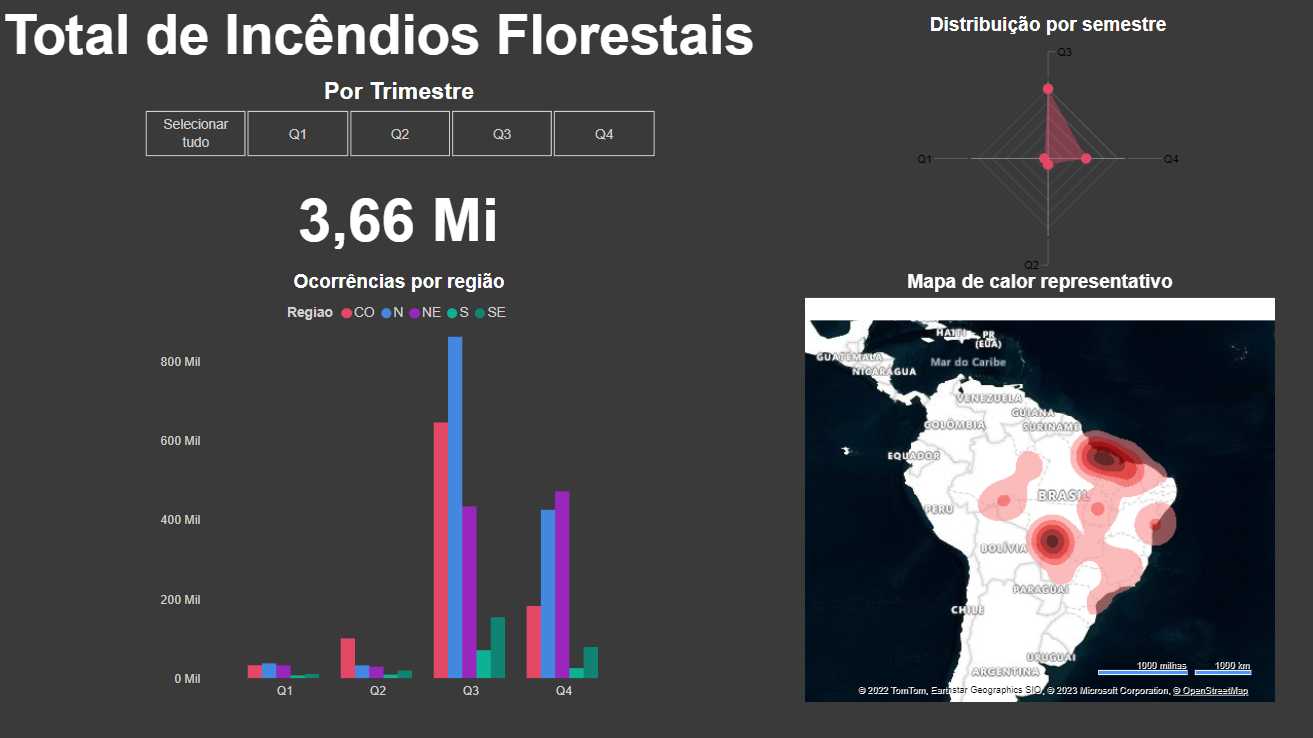

The page's visual inventory and layout, read from the dashboard file:
{"tool":"powerbi","page":{"name":"totalPorTrimestre","canvas":[1280,720],"ordinal":0},"visuals":[{"type":"card","title":"Total de incêndios","fields":{"Values":["Sum(dados_corretos.Numero)"]},"box":[165.3,172.2,448.4,76.8],"z":0},{"type":"RadarChart1446119667547","title":"Distribuição por semestre","fields":{"Y":["Sum(dados_corretos.Numero)"],"Category":["dados_corretos.Trimestre"]},"box":[787.8,15.6,466.9,259.7],"z":1000},{"type":"textbox","box":[0,0,780.1,86.6],"z":2000},{"type":"clusteredColumnChart","title":"Ocorrências por região","fields":{"Y":["Sum(dados_corretos.Numero)"],"Series":["dados_corretos.Regiao"],"Category":["dados_corretos.Trimestre"]},"box":[152.7,265.5,474.7,424.1],"z":3000},{"type":"slicer","title":"Por Trimestre","fields":{"Values":["dados_corretos.Trimestre"]},"box":[117.7,76.8,544.7,81.7],"z":4000},{"type":"heatmapF244EA9EE1F34E828A80CF19B41976F8","title":"Mapa de calor representativo","fields":{"value":["Sum(dados_corretos.Numero)"],"location":["dados_corretos.Estado"]},"box":[780.1,265.5,466.9,424.1],"z":5000}]}

Visuals, with their boxes in screenshot pixels (x1, y1, x2, y2), scaled from the page's 1280x720 canvas onto the 1313x738 screenshot:
"Total de incêndios" card: [170,177,630,255]
"Distribuição por semestre" RadarChart1446119667547: [808,16,1287,282]
textbox: [0,0,800,89]
"Ocorrências por região" clusteredColumnChart: [157,272,644,707]
"Por Trimestre" slicer: [121,79,679,162]
"Mapa de calor representativo" heatmapF244EA9EE1F34E828A80CF19B41976F8: [800,272,1279,707]
